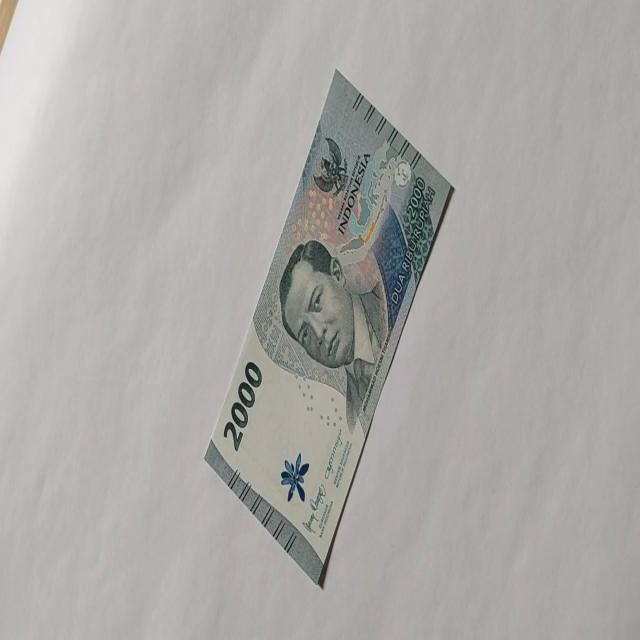dua ribu rupiah: (202, 66, 456, 586), (278, 236, 389, 433)
